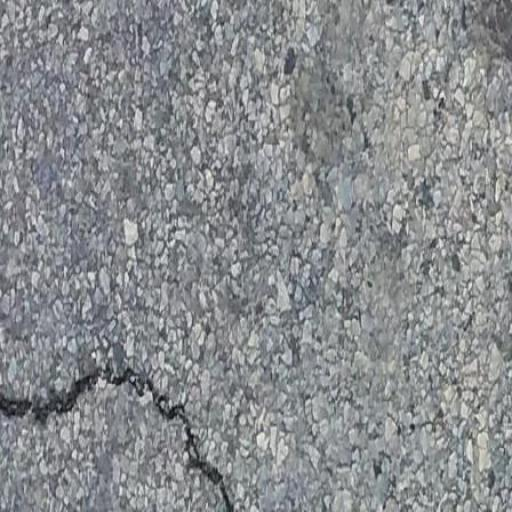spalling: (7, 347, 249, 501)
